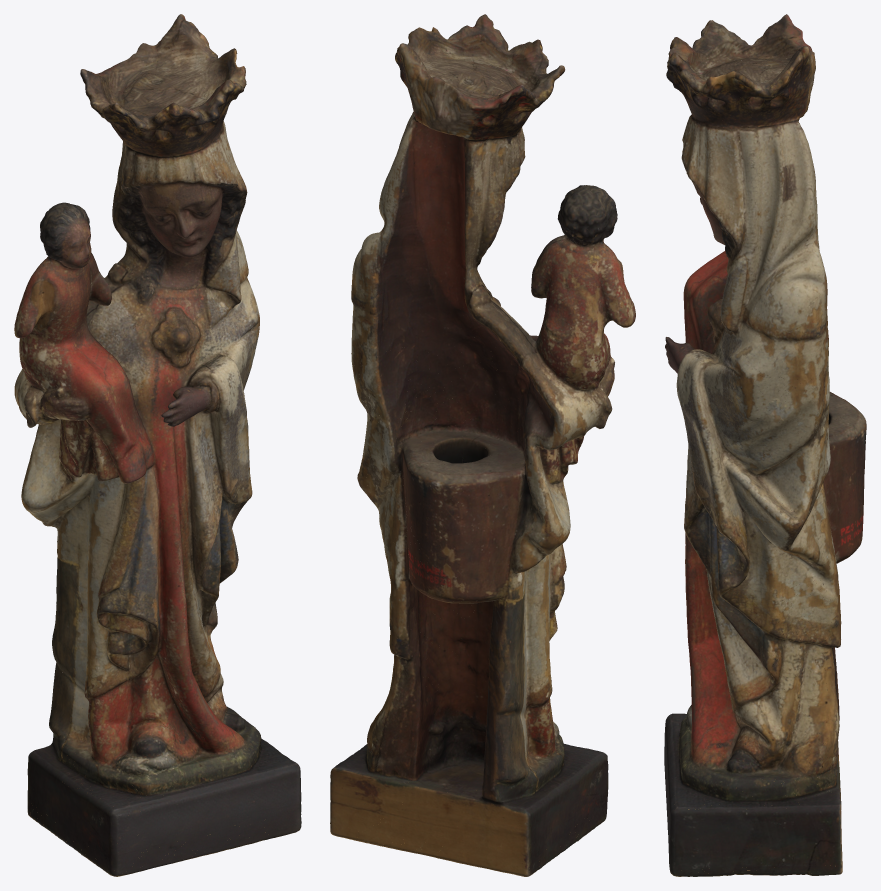
File: preview.glb
The picture shows the model from 3 angles, left to right: view 1: azimuth 30°, elevation 25°; view 2: azimuth 150°, elevation 25°; view 3: azimuth 270°, elevation 25°; orthographic projection. The views are drawn at different scales.
Visible parts, largest first — view 1: Object_4, Object_3; view 2: Object_3, Object_4; view 3: Object_4, Object_3.
Part boxes in pixels (x1,y1,x2,y2): Object_4: [14, 19, 301, 876]; Object_3: [14, 14, 301, 876]; Object_3: [330, 14, 617, 876]; Object_4: [330, 19, 635, 876]; Object_4: [664, 14, 863, 876]; Object_3: [664, 18, 866, 876].
Size of the model in its own units: 259 by 768 by 175.
Materials: 1 (1 with a texture image).
